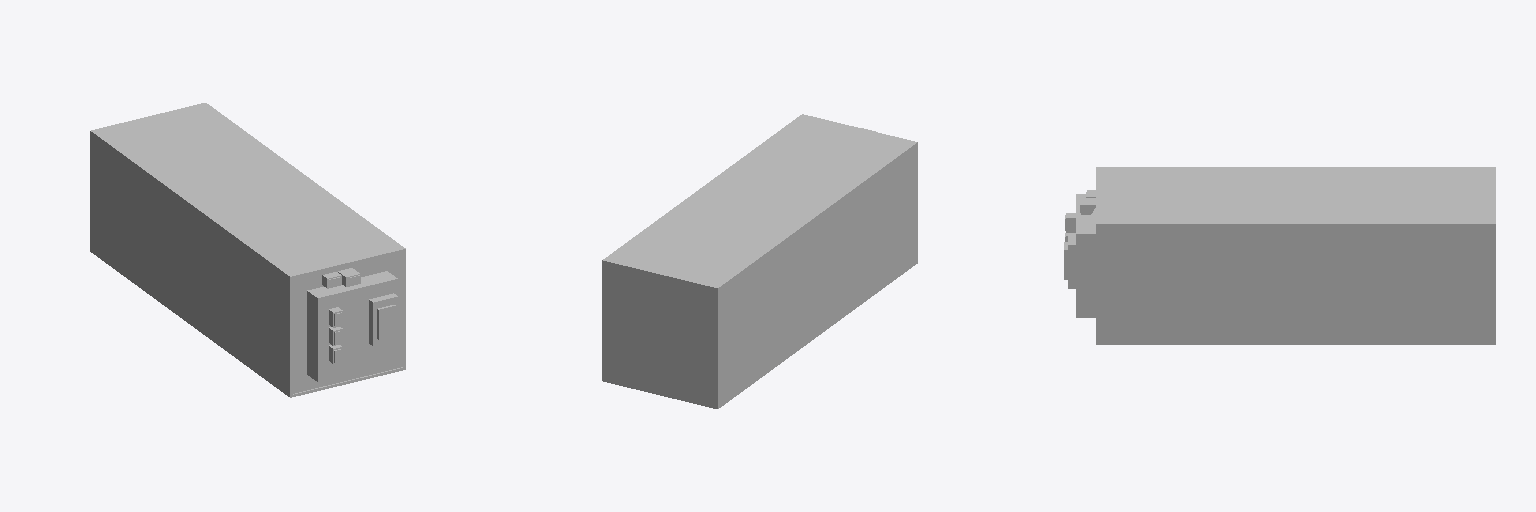
Rendered from PlayBuilding_2.obj.
The picture shows the model from 3 angles: view 1: azimuth 30°, elevation 25°; view 2: azimuth 150°, elevation 25°; view 3: azimuth 270°, elevation 25°; orthographic projection.
Parts seen in each view (by area): view 1: 立方体.004; view 2: 立方体.004; view 3: 立方体.004.
Boxes of the visible parts, <box> form: 立方体.004: <box>90,103,405,397</box>; 立方体.004: <box>602,114,917,408</box>; 立方体.004: <box>1064,167,1495,344</box>.
Bounding box in the file's own units: 34.44 × 34.44 × 111.